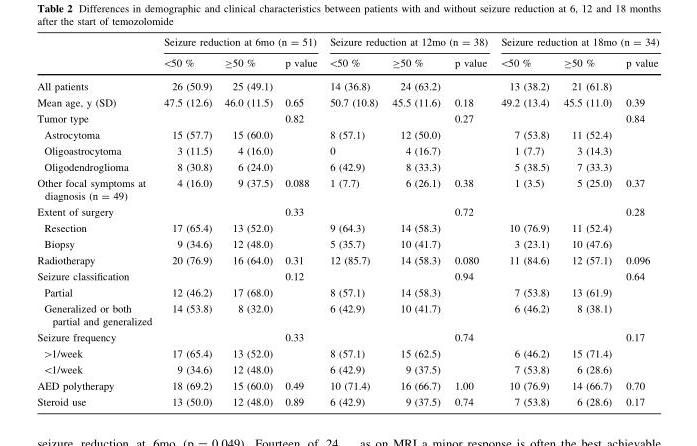table: (36, 36, 658, 407)
table column: (36, 36, 156, 407), (321, 36, 384, 407), (492, 36, 555, 407), (555, 36, 618, 407), (384, 36, 446, 407), (156, 36, 217, 407), (217, 36, 278, 407), (446, 36, 492, 407), (278, 36, 321, 407), (618, 36, 658, 407)
table column header: (36, 36, 658, 75)
table row: (36, 300, 658, 329), (36, 175, 658, 203), (36, 51, 658, 75), (36, 75, 658, 94), (36, 142, 658, 159), (36, 203, 658, 220), (36, 344, 658, 361), (36, 361, 658, 378), (36, 94, 658, 110), (36, 110, 658, 126), (36, 126, 658, 142), (36, 159, 658, 175), (36, 220, 658, 236), (36, 236, 658, 252), (36, 252, 658, 268), (36, 268, 658, 284), (36, 284, 658, 300), (36, 36, 658, 51), (36, 329, 658, 344), (36, 378, 658, 393), (36, 393, 658, 407)
table spanning cell: (321, 36, 492, 51), (492, 36, 658, 51), (156, 36, 321, 51)
